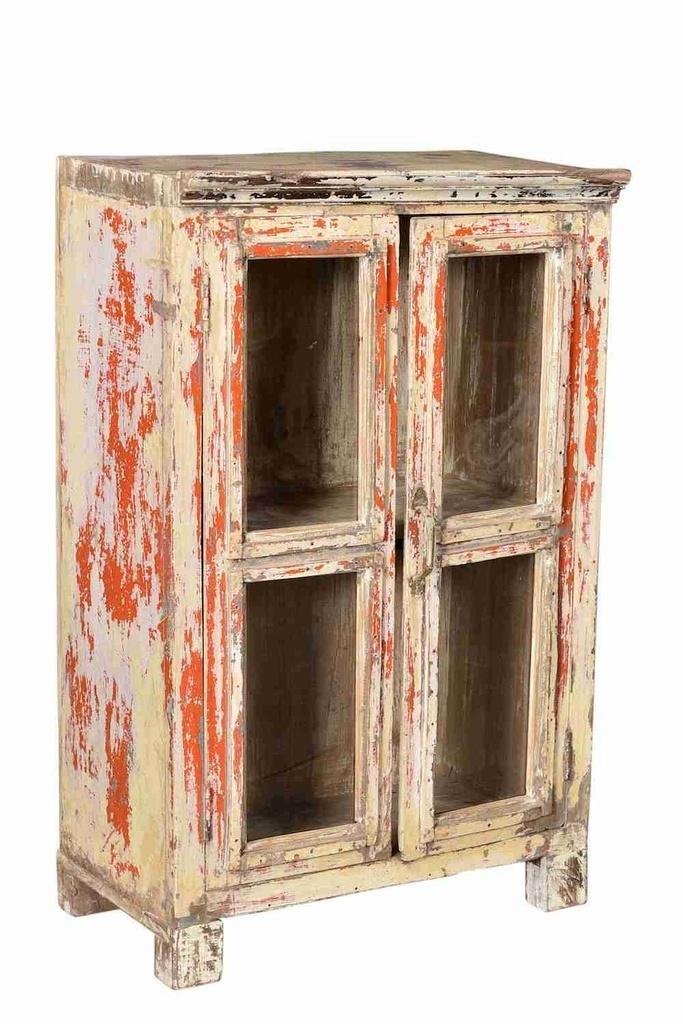cabinet_door: (180, 217, 385, 887), (400, 210, 588, 843)
